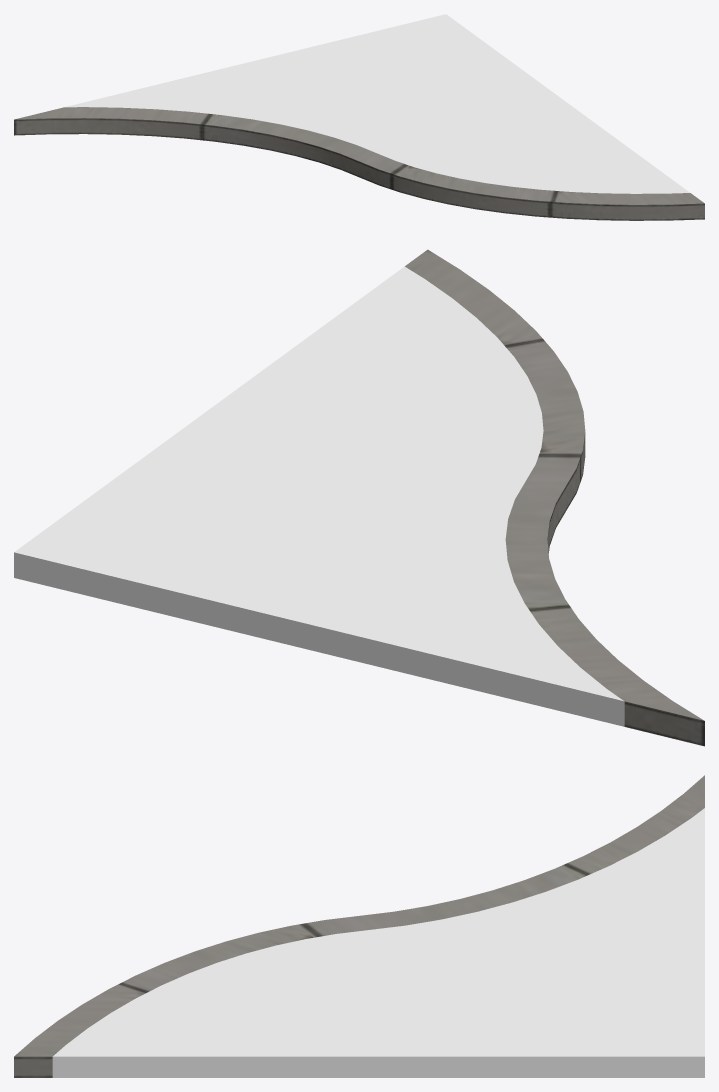
Rendered from ExtensionTransition.obj.
The picture shows the model from 3 angles, top to bottom: view 1: azimuth 30°, elevation 25°; view 2: azimuth 150°, elevation 25°; view 3: azimuth 270°, elevation 25°; orthographic projection. The views are drawn at different scales.
Visible parts, largest first — view 1: Mesh1 Model; view 2: Mesh1 Model; view 3: Mesh1 Model.
Part boxes in pixels (box(x1,y1,x2,y2)): Mesh1 Model: box(14, 14, 704, 220); Mesh1 Model: box(14, 249, 704, 746); Mesh1 Model: box(14, 775, 704, 1077).
Size of the model in its own units: 47.78 by 1.69 by 49.55.
6 materials, 5 textured.
